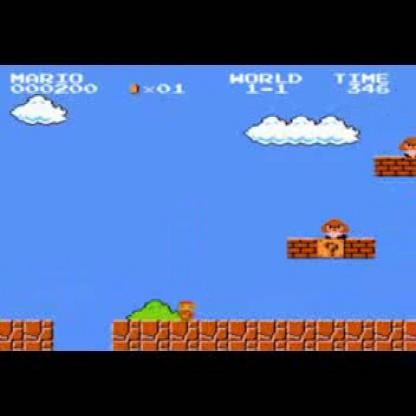Goomba: (320, 216, 352, 242), (397, 133, 415, 157)
Hoyo: (47, 317, 118, 351)
